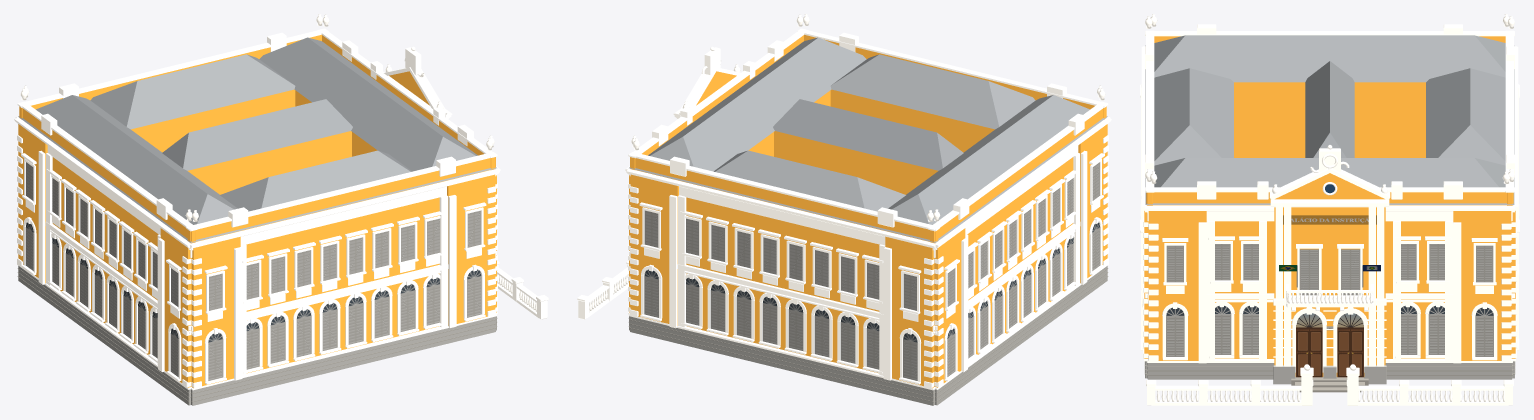
The model's file is cuiaba-palacio-da-instrucao.glb.
3 renders of one model, left to right at view 1: azimuth 30°, elevation 25°; view 2: azimuth 150°, elevation 25°; view 3: azimuth 270°, elevation 25°, orthographic. The views are drawn at different scales.
Parts seen in each view (by area): view 1: biblioteca; view 2: biblioteca; view 3: biblioteca.
Boxes of the visible parts, bbox=[...] form: biblioteca: bbox=[14, 14, 548, 405]; biblioteca: bbox=[577, 14, 1111, 405]; biblioteca: bbox=[1140, 14, 1519, 405].
Bounding box in the file's own units: 18.59 × 10.75 × 15.72.
19 materials, 7 textured.
